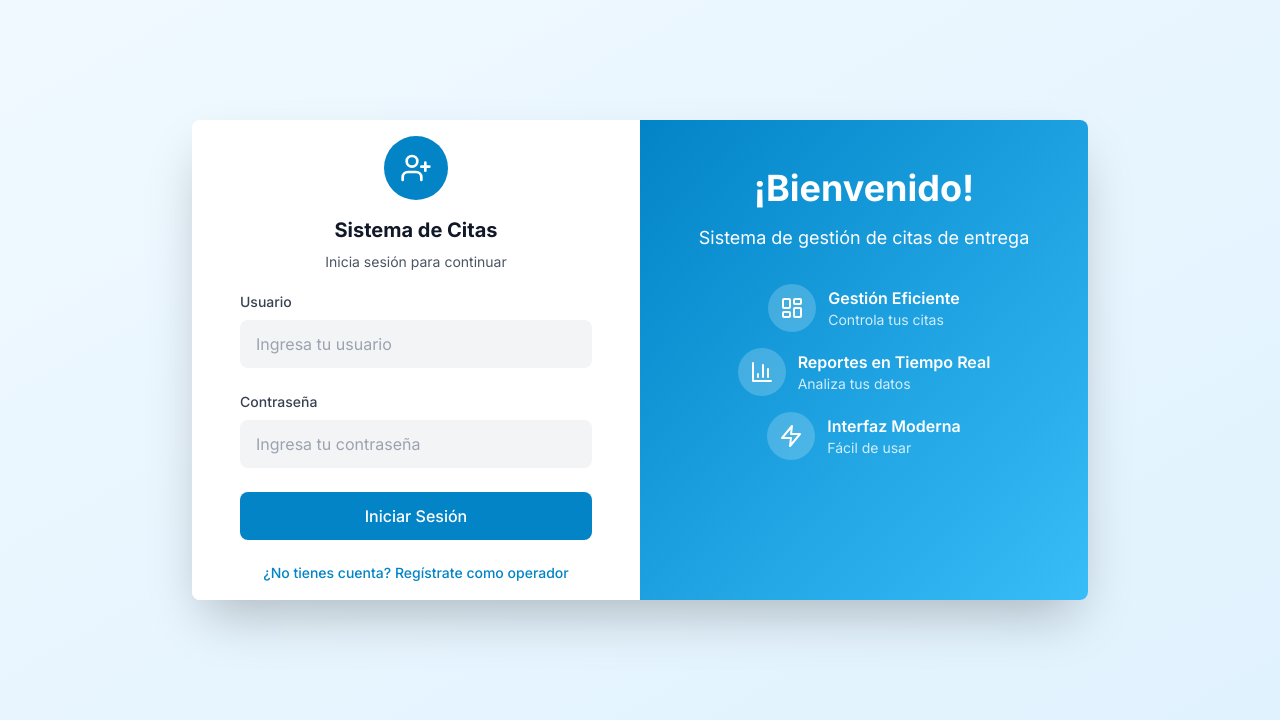
Test: LoginPage › muestra error cuando las credenciales son incorrectas
Type "usuario_invalido" into the field labelled "Usuario" at point(416, 344), box left=240, top=320, right=592, bottom=368
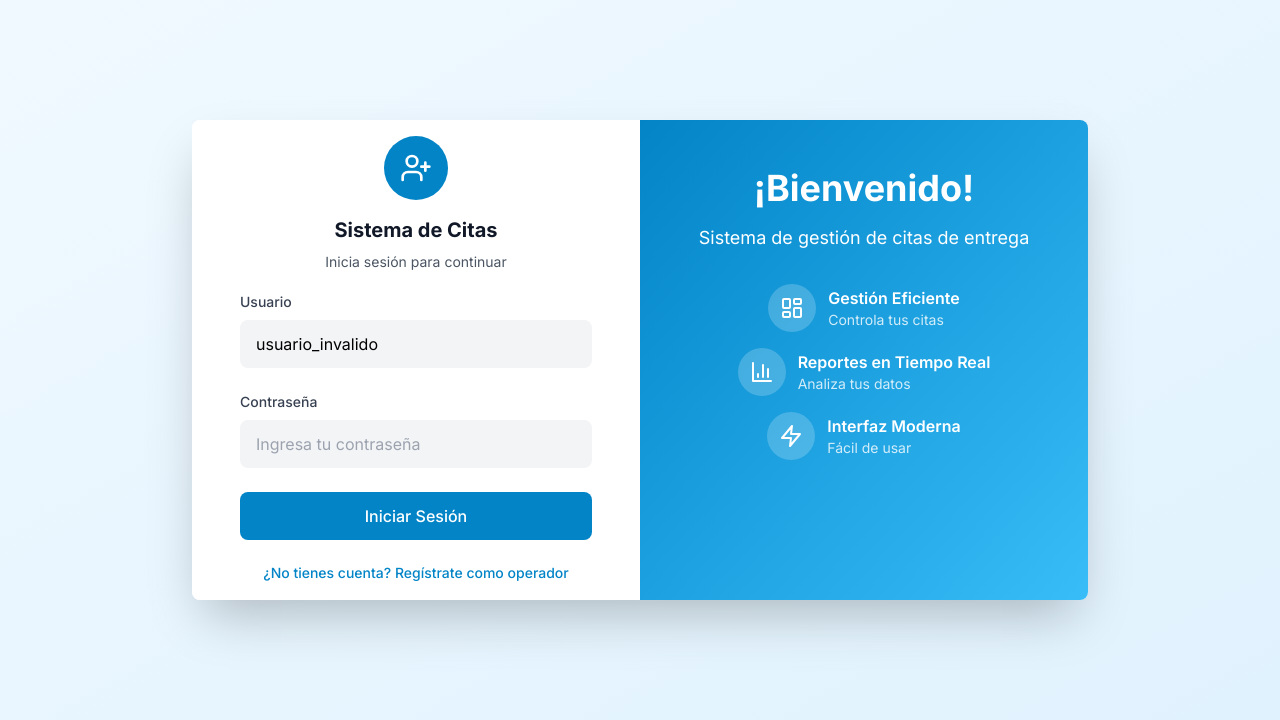
Type "password_invalido" into the password field labelled "Contraseña" at point(416, 444), box left=240, top=420, right=592, bottom=468
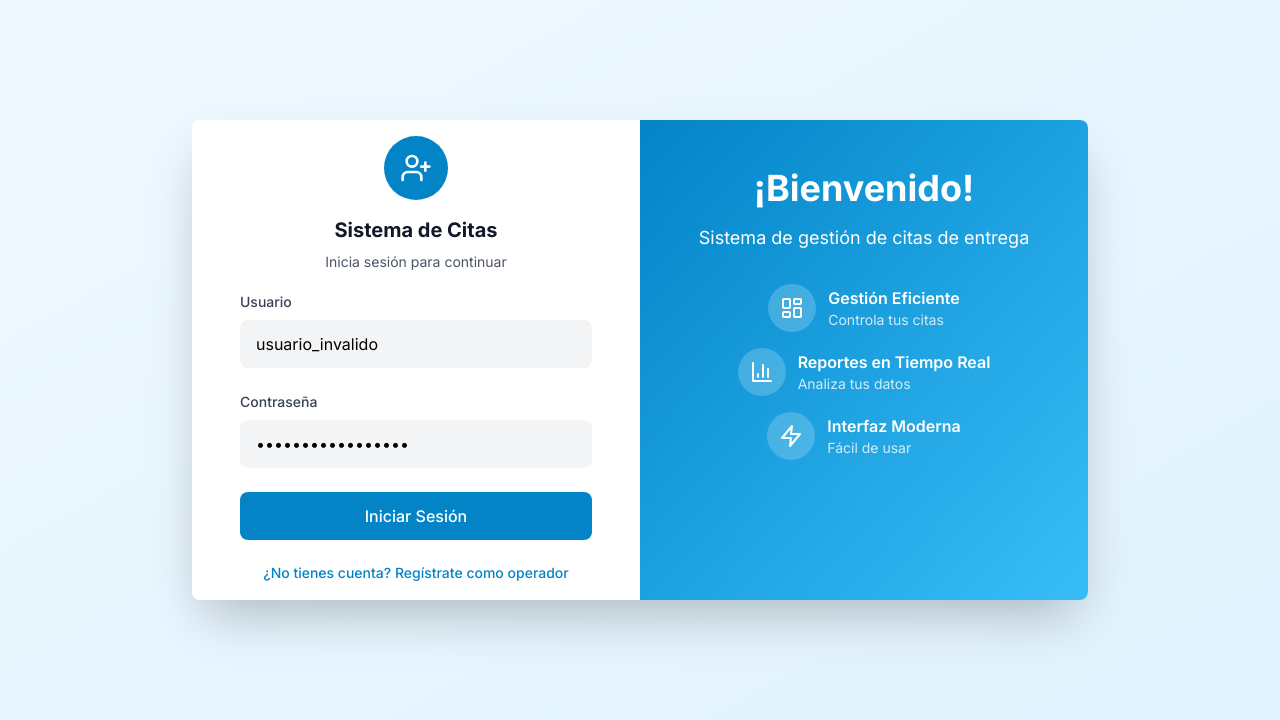
Click the button "Iniciar Sesión" at point(416, 516), box left=240, top=492, right=592, bottom=540
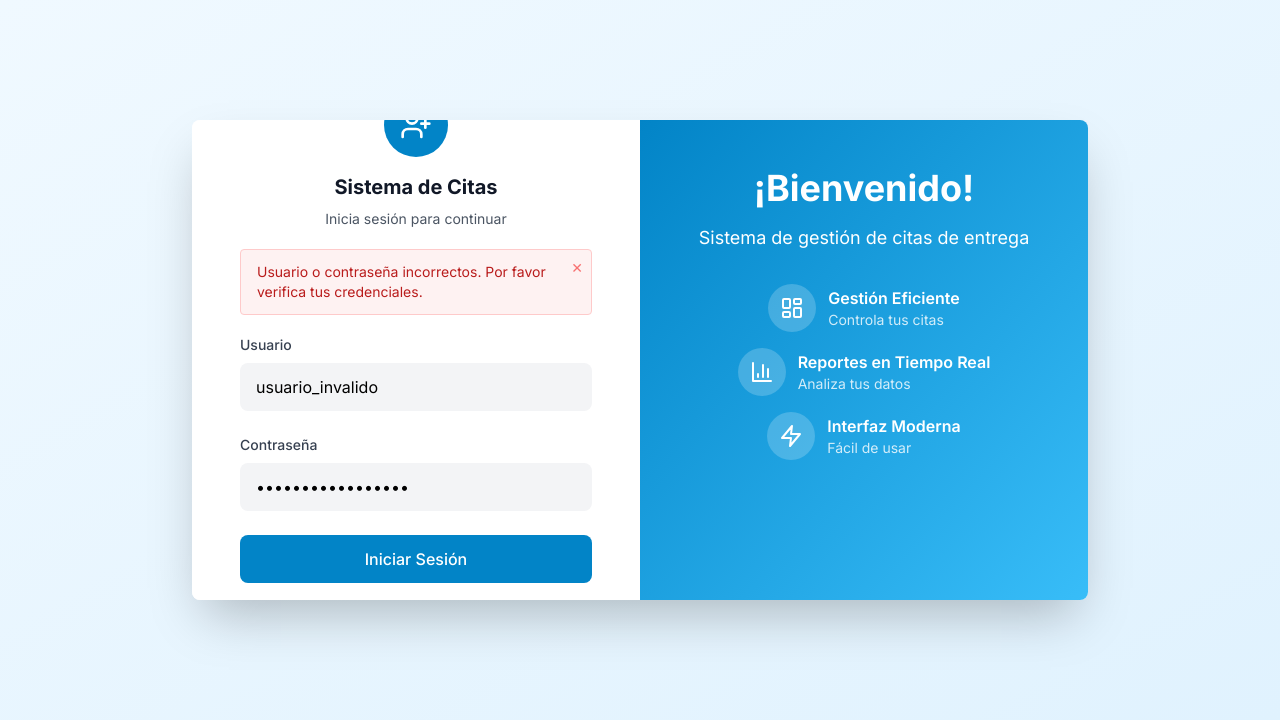
Result: the text "Usuario o contraseña incorrectos" is shown at left=257, top=263, right=546, bottom=300
